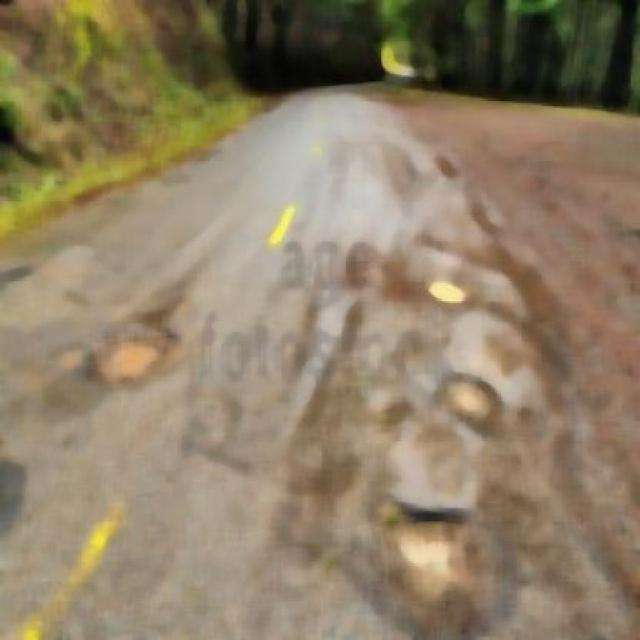Pothole: (376, 492, 458, 598), (89, 312, 169, 410)
